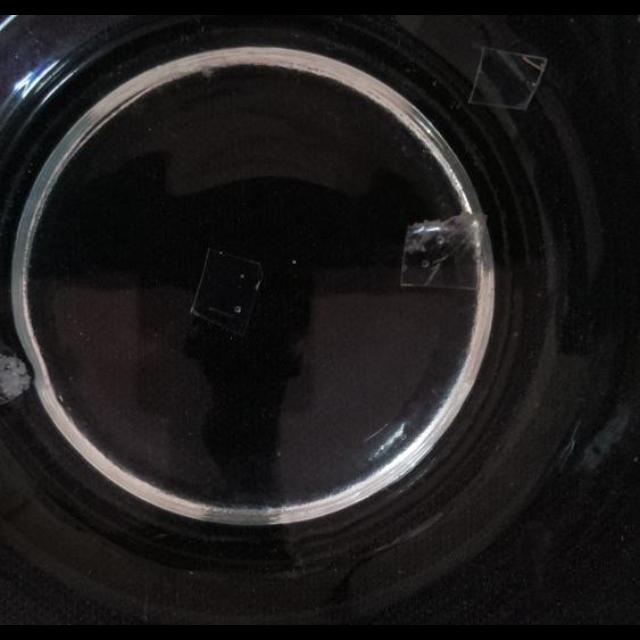Film: (396, 206, 489, 292), (188, 245, 266, 335), (469, 46, 548, 110)
